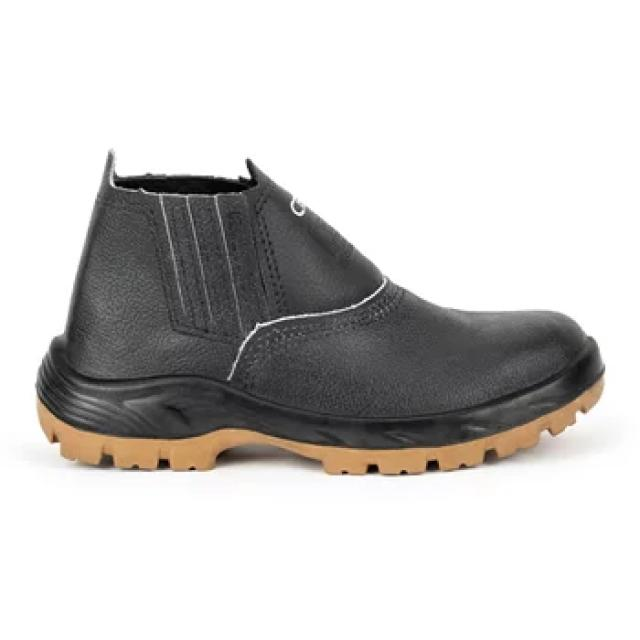BOTA: (30, 148, 613, 486)
